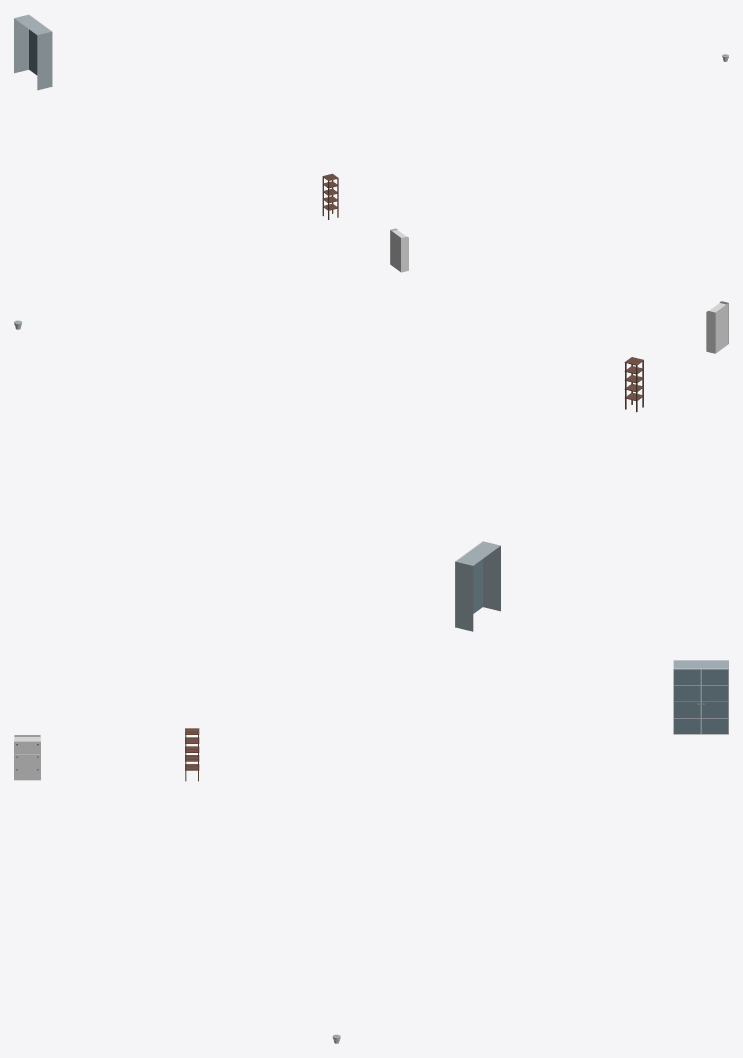
The picture shows the model from 3 angles, top to bottom: view 1: azimuth 30°, elevation 25°; view 2: azimuth 150°, elevation 25°; view 3: azimuth 270°, elevation 25°; orthographic projection. The views are drawn at different scales.
Visible parts, largest first — view 1: low_poly_interior.176, low_poly_interior.175, low_poly_interior.018; view 2: low_poly_interior.176, low_poly_interior.175, low_poly_interior.018; view 3: low_poly_interior.176, low_poly_interior.175.
Part boxes in pixels (x1,y1,x2,y2): low_poly_interior.176: (14, 14, 52, 90); low_poly_interior.175: (390, 228, 408, 272); low_poly_interior.018: (322, 173, 338, 219); low_poly_interior.176: (455, 541, 500, 631); low_poly_interior.175: (706, 301, 728, 353); low_poly_interior.018: (624, 357, 643, 412); low_poly_interior.176: (673, 660, 728, 734); low_poly_interior.175: (14, 735, 40, 780).
Bounding box in the file's own units: 2029 × 196 × 1925.
Materials: 1 (1 with a texture image).
